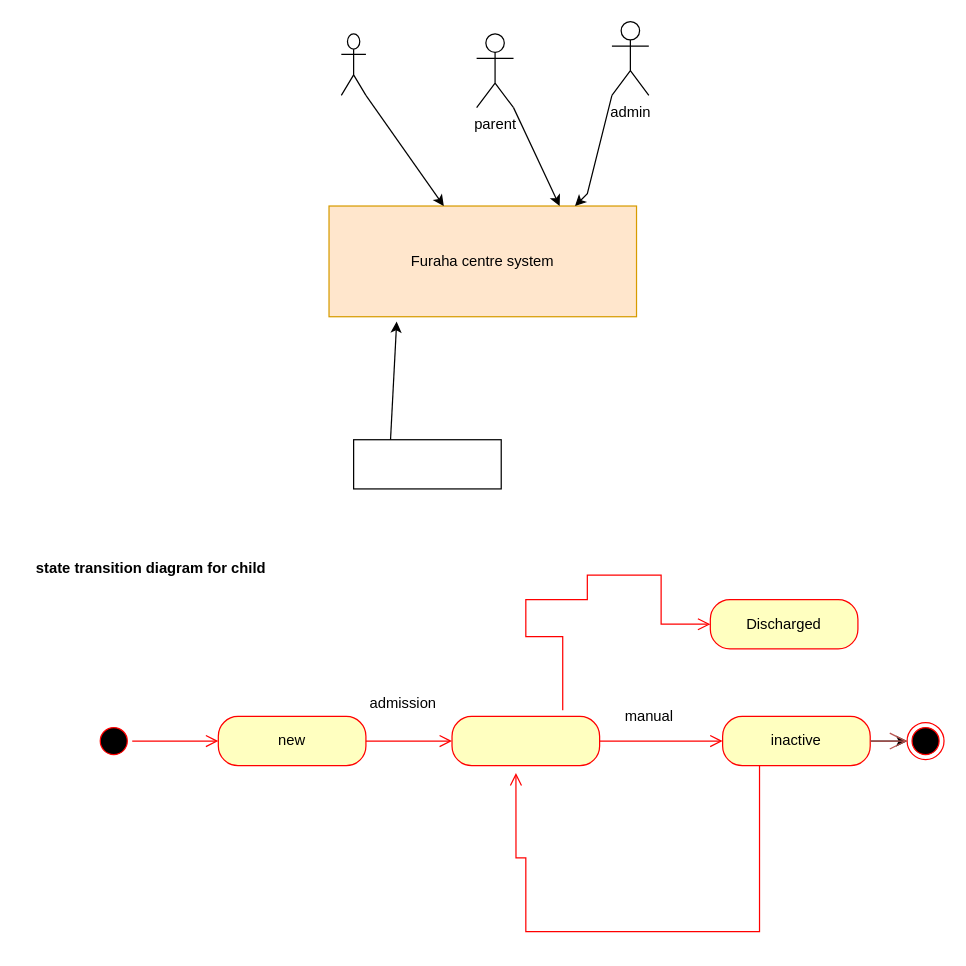
This 966x966 diagram has some shape labels left out. The shapes that lost their labels are listed below. From the top down, each one's box as (x1, y1, x2, y2) in pixels, then its label:
(340, 33, 366, 95): Therapist
(352, 438, 501, 489): payment gateway
(451, 715, 600, 766): active
